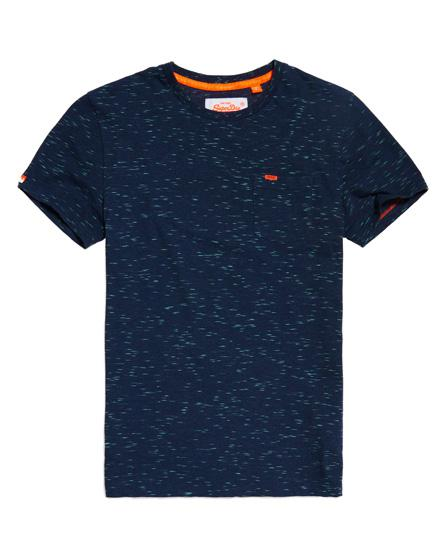teeshirt: (13, 52, 432, 518)
